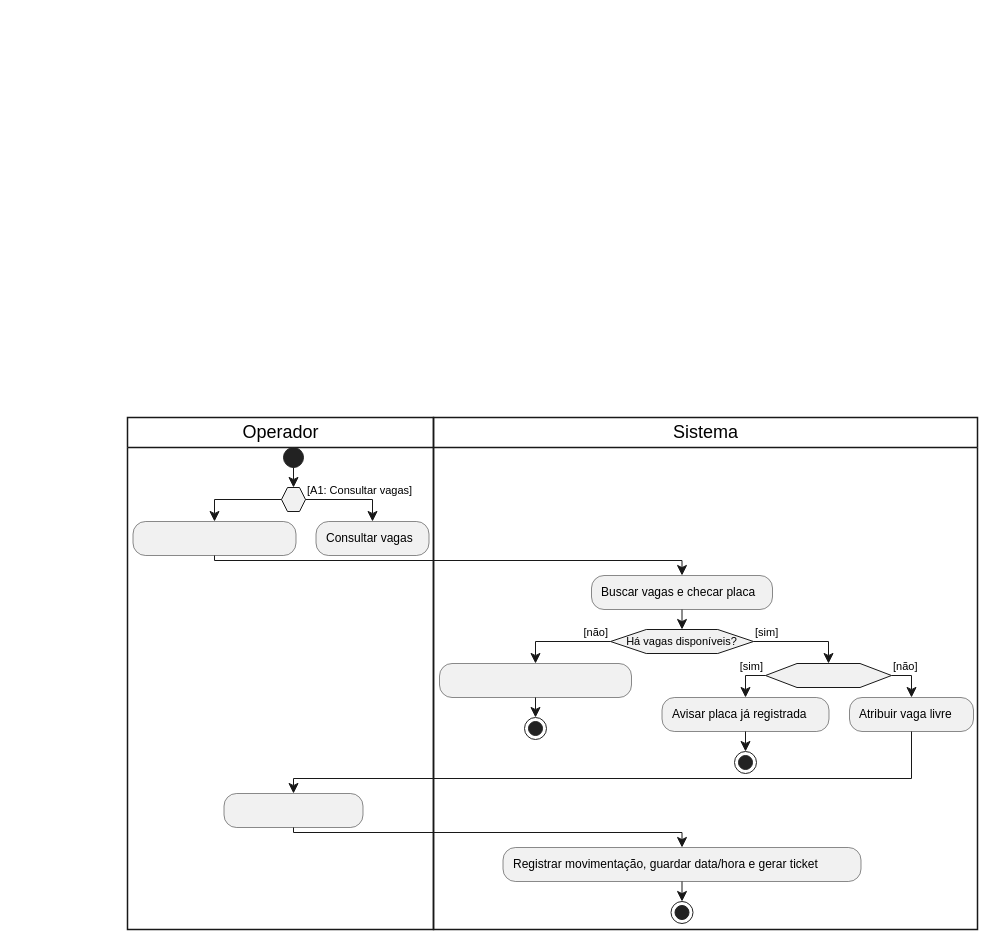
The diagram is 995 pixels wide and 947 high, and some of its shapes have lost their labels. The centre of each missing label's shape, as x and y in pixels:
Avisar estacionamento lotado: point (535, 680)
Confirmar o registro: point (293, 810)
Informar a placa e o tipo: point (214, 538)
Placa já registrada?: point (828, 675)
